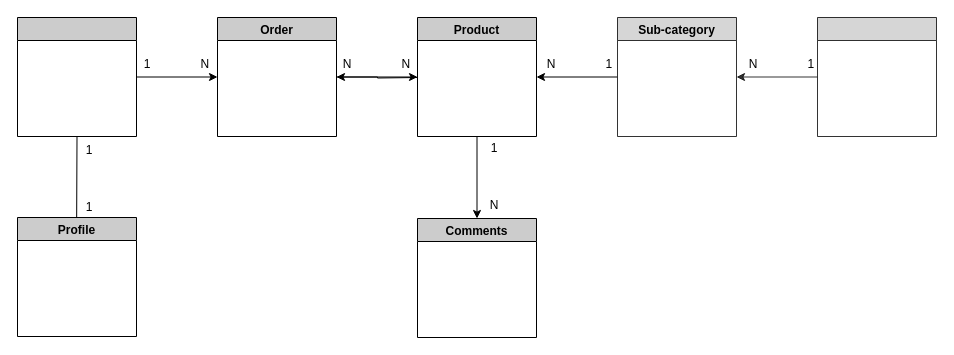
Image size: 954x355. Some labels were removed from this diagram. Here are the shapes that lost their labels. From the top down, the centre of each, then its label:
At pixel 76 76: "User".
At pixel 876 76: "Category".
